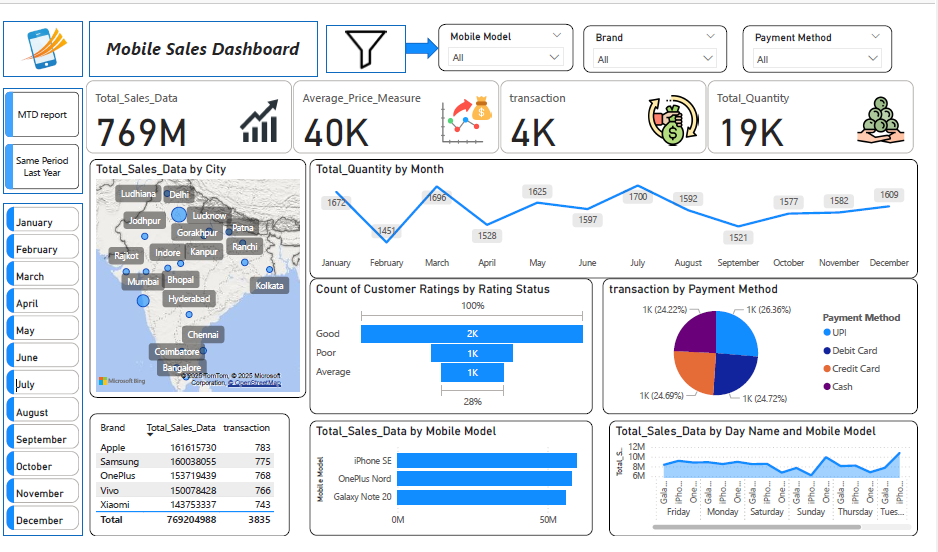

The page's visual inventory and layout, read from the dashboard file:
{"tool":"powerbi","page":{"name":"Sales_Dashboard","canvas":[1280,720],"ordinal":0},"visuals":[{"type":"shape","box":[0,0,111.2,77.6],"z":0},{"type":"image","box":[0,0,111.2,77.6],"z":1000},{"type":"shape","box":[0,93.7,111.2,147.8],"z":2000},{"type":"shape","box":[0,254.6,111.2,465.4],"z":3000},{"type":"advancedSlicerVisual","fields":{"Values":["Custom_Calender.Date.Variation.Date Hierarchy.Month"]},"box":[0,254.6,111.2,465.4],"z":4000},{"type":"cardVisual","fields":{"Data":["Mobiles_Sales_Data.Total_Sales_Data","Mobiles_Sales_Data.Average_Price_Measure","Mobiles_Sales_Data.Total_Transactions_Measure","Mobiles_Sales_Data.Total_Quantity"]},"box":[111.2,77.6,1169.3,112.7],"z":5000},{"type":"slicer","fields":{"Values":["Mobiles_Sales_Data.Mobile Model"]},"box":[608.8,4.4,188.8,65.9],"z":6000},{"type":"slicer","fields":{"Values":["Mobiles_Sales_Data.Brand"]},"box":[812.2,5.9,200.5,65.9],"z":7000},{"type":"slicer","fields":{"Values":["Mobiles_Sales_Data.Payment Method"]},"box":[1034.6,5.9,209.3,65.9],"z":8000},{"type":"shape","box":[452.2,5.9,111.2,65.9],"z":9000},{"type":"image","box":[474.1,4.4,67.3,70.2],"z":10000},{"type":"shape","box":[563.4,23.4,45.4,29.3],"z":11000},{"type":"shape","box":[121.5,0,319,77.6],"z":12000},{"type":"textbox","box":[133.2,16.1,295.6,43.9],"z":13000},{"type":"map","fields":{"Category":["Mobiles_Sales_Data.City"],"Size":["Mobiles_Sales_Data.Total_Sales_Data"]},"box":[121.5,193.2,302.9,333.7],"z":14000},{"type":"lineChart","fields":{"Y":["Mobiles_Sales_Data.Total_Quantity"],"Category":["Custom_Calender.Date.Variation.Date Hierarchy.Month"]},"box":[428.8,193.2,851.7,166.8],"z":15000},{"type":"funnel","fields":{"Category":["Mobiles_Sales_Data.Rating Status"],"Y":["CountNonNull(Mobiles_Sales_Data.Customer Ratings)"]},"box":[428.8,360,396.6,190.2],"z":16000},{"type":"pieChart","fields":{"Y":["Mobiles_Sales_Data.Total_Transactions_Measure"],"Category":["Mobiles_Sales_Data.Payment Method"]},"box":[838.5,360,442,190.2],"z":17000},{"type":"clusteredBarChart","fields":{"Y":["Mobiles_Sales_Data.Total_Sales_Data"],"Category":["Mobiles_Sales_Data.Mobile Model"]},"box":[428.8,559,396.6,161],"z":18000},{"type":"areaChart","fields":{"Category":["Custom_Calender.Day Name","Mobiles_Sales_Data.Mobile Model"],"Y":["Mobiles_Sales_Data.Total_Sales_Data"]},"box":[848.3,559.4,431.7,161.3],"z":19000},{"type":"tableEx","fields":{"Values":["Mobiles_Sales_Data.Brand","Mobiles_Sales_Data.Total_Sales_Data","Mobiles_Sales_Data.Total_Transactions_Measure"]},"box":[120.9,549.3,280.5,171.3],"z":20000},{"type":"pageNavigator","box":[3.4,99.1,102.5,136.1],"z":21000}]}

Visuals, with their boxes on the page's 1280x720 design canvas (x1, y1, x2, y2). These are canvas units, not pixel positions in the 938x552 screenshot, which may show the page scaled, cropped or inside an application window:
shape: <box>0,0,111,78</box>
image: <box>0,0,111,78</box>
shape: <box>0,94,111,242</box>
shape: <box>0,255,111,720</box>
advancedSlicerVisual - Custom_Calender.Date.Variation.Date Hierarchy.Month: <box>0,255,111,720</box>
cardVisual - Mobiles_Sales_Data.Total_Sales_Data x Mobiles_Sales_Data.Average_Price_Measure: <box>111,78,1280,190</box>
slicer - Mobiles_Sales_Data.Mobile Model: <box>609,4,798,70</box>
slicer - Mobiles_Sales_Data.Brand: <box>812,6,1013,72</box>
slicer - Mobiles_Sales_Data.Payment Method: <box>1035,6,1244,72</box>
shape: <box>452,6,563,72</box>
image: <box>474,4,541,75</box>
shape: <box>563,23,609,53</box>
shape: <box>122,0,440,78</box>
textbox: <box>133,16,429,60</box>
map - Mobiles_Sales_Data.City x Mobiles_Sales_Data.Total_Sales_Data: <box>122,193,424,527</box>
lineChart - Mobiles_Sales_Data.Total_Quantity x Custom_Calender.Date.Variation.Date Hierarchy.Month: <box>429,193,1280,360</box>
funnel - Mobiles_Sales_Data.Rating Status x CountNonNull(Mobiles_Sales_Data.Customer Ratings): <box>429,360,825,550</box>
pieChart - Mobiles_Sales_Data.Total_Transactions_Measure x Mobiles_Sales_Data.Payment Method: <box>838,360,1280,550</box>
clusteredBarChart - Mobiles_Sales_Data.Total_Sales_Data x Mobiles_Sales_Data.Mobile Model: <box>429,559,825,720</box>
areaChart - Custom_Calender.Day Name x Mobiles_Sales_Data.Mobile Model: <box>848,559,1280,721</box>
tableEx - Mobiles_Sales_Data.Brand x Mobiles_Sales_Data.Total_Sales_Data: <box>121,549,401,721</box>
pageNavigator: <box>3,99,106,235</box>
